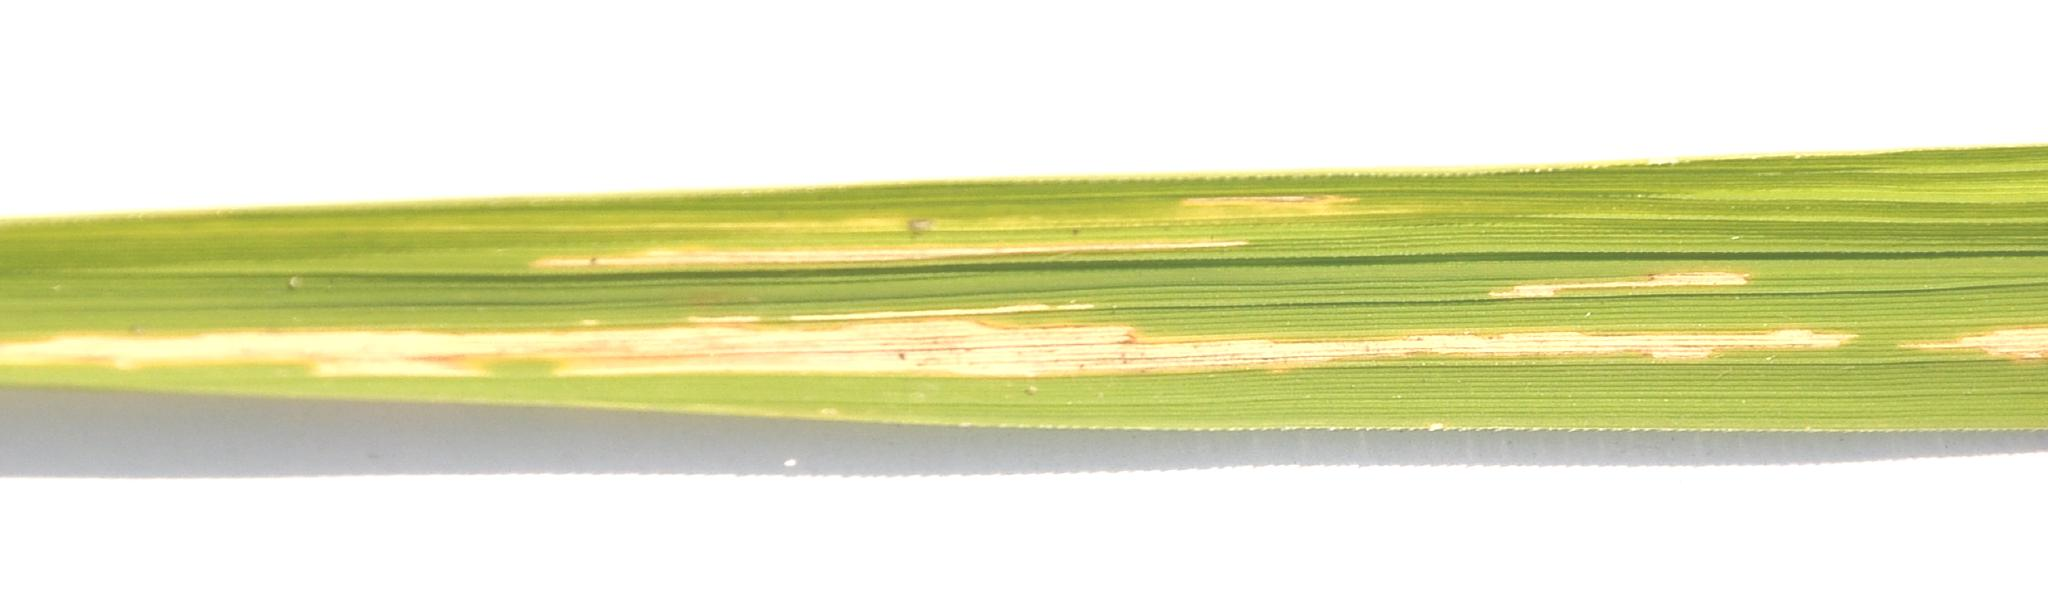2 BacterialBlight: (505, 156, 1831, 325), (7, 291, 2048, 395)
